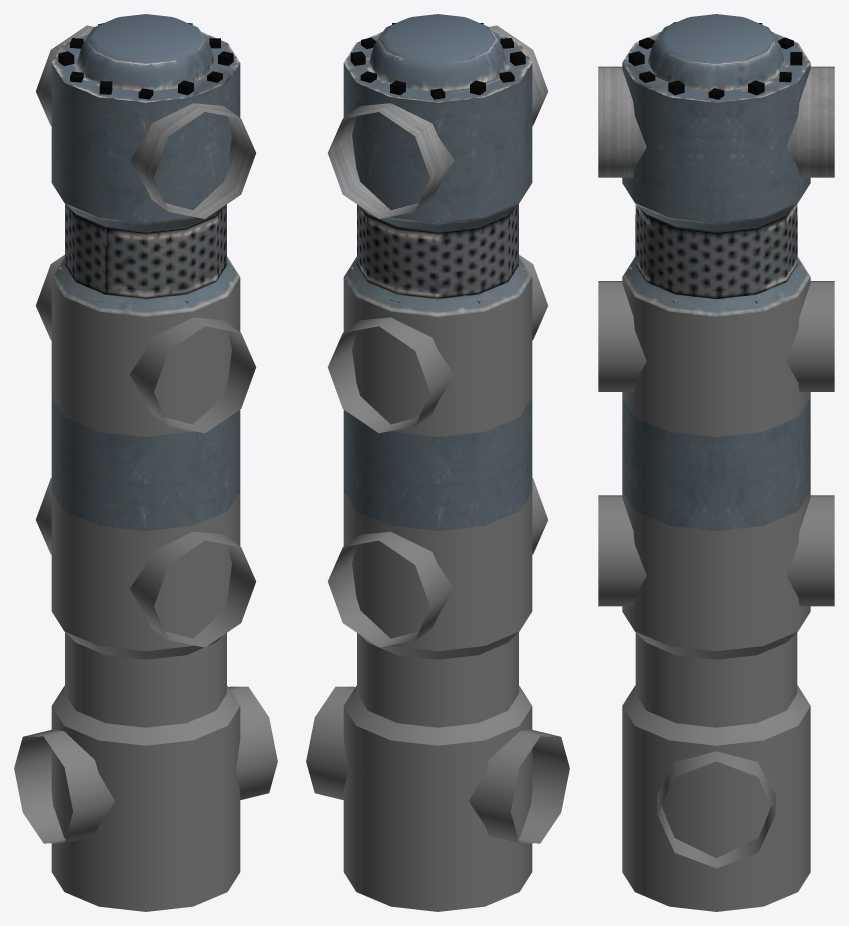
File: PipeVerticalBalancer.fbx
The picture shows the model from 3 angles, left to right: view 1: azimuth 30°, elevation 25°; view 2: azimuth 150°, elevation 25°; view 3: azimuth 270°, elevation 25°; orthographic projection.
Visible parts, largest first — view 1: pipe_balancer_2h, pipe_balancer_4h, pipe_balancer_3h; view 2: pipe_balancer_2h, pipe_balancer_4h, pipe_balancer_3h; view 3: pipe_balancer_2h, pipe_balancer_4h, pipe_balancer_3h.
Boxes of the visible parts, <box> form: pipe_balancer_2h: <box>14,478,277,911</box>; pipe_balancer_4h: <box>36,14,255,530</box>; pipe_balancer_3h: <box>35,255,256,436</box>; pipe_balancer_2h: <box>306,478,569,911</box>; pipe_balancer_4h: <box>328,14,547,530</box>; pipe_balancer_3h: <box>327,255,548,436</box>; pipe_balancer_2h: <box>598,492,834,911</box>; pipe_balancer_4h: <box>598,14,834,530</box>; pipe_balancer_3h: <box>598,266,834,436</box>.
Bounding box in the file's own units: 0.0508 × 0.1984 × 0.0508.
Materials: 2 (1 with a texture image).
